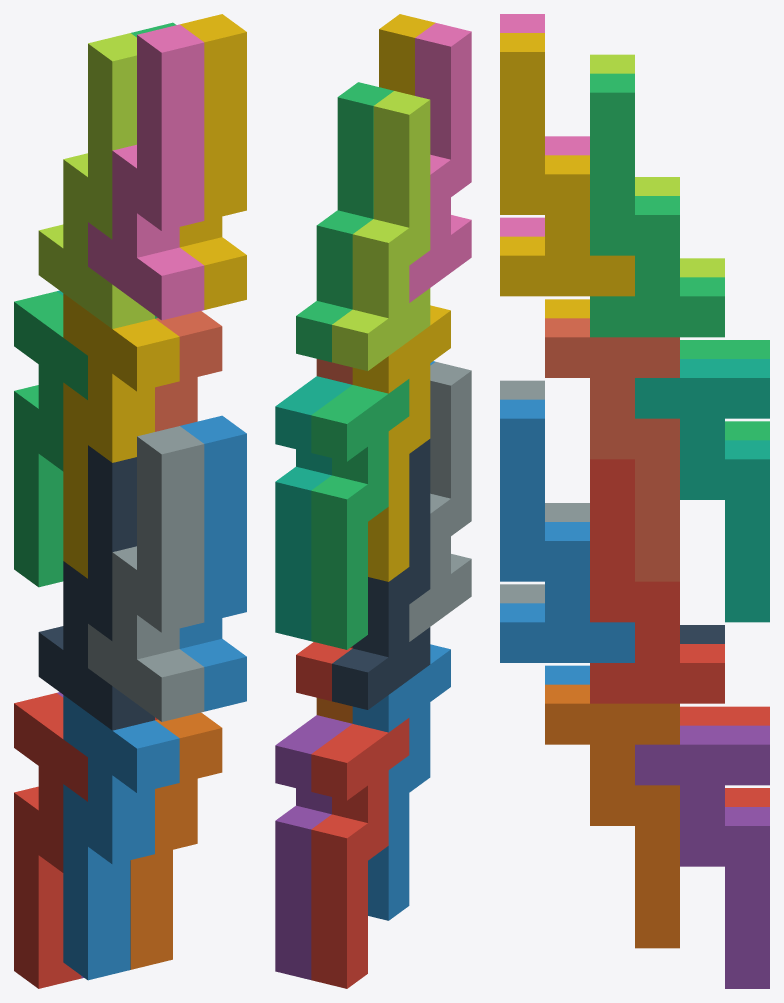
The model's file is tiling.obj.
3 views of the same model, side by side, from view 1: azimuth 30°, elevation 25°; view 2: azimuth 150°, elevation 25°; view 3: azimuth 270°, elevation 25° (orthographic). The views are drawn at different scales.
Parts seen in each view (by area): view 1: copy_2_domain_4, copy_2_domain_2, copy_1_domain_2, copy_1_domain_4, copy_1_domain_1, copy_2_domain_3, copy_1_domain_3, copy_2_domain_1, copy_2_domain_6, copy_2_domain_8, copy_1_domain_6, copy_1_domain_8; view 2: copy_2_domain_3, copy_1_domain_3, copy_1_domain_1, copy_2_domain_4, copy_2_domain_1, copy_2_domain_2, copy_2_domain_7, copy_1_domain_7, copy_1_domain_5, copy_1_domain_2, copy_1_domain_4, copy_2_domain_8 (+3 smaller); view 3: copy_2_domain_7, copy_1_domain_5, copy_2_domain_8, copy_1_domain_7, copy_2_domain_6, copy_1_domain_6, copy_1_domain_8, copy_2_domain_5, copy_1_domain_1, copy_2_domain_2, copy_2_domain_3, copy_2_domain_4 (+4 smaller).
Part boxes in pixels (left/top/right/bottom): copy_2_domain_4: left=88, top=24, right=204, bottom=320; copy_2_domain_2: left=88, top=426, right=204, bottom=721; copy_1_domain_2: left=63, top=695, right=179, bottom=980; copy_1_domain_4: left=63, top=293, right=179, bottom=578; copy_1_domain_1: left=14, top=693, right=87, bottom=988; copy_2_domain_3: left=38, top=33, right=154, bottom=328; copy_1_domain_3: left=14, top=291, right=87, bottom=587; copy_2_domain_1: left=38, top=445, right=154, bottom=730; copy_2_domain_6: left=179, top=415, right=246, bottom=711; copy_2_domain_8: left=179, top=14, right=246, bottom=309; copy_1_domain_6: left=130, top=712, right=222, bottom=969; copy_1_domain_8: left=155, top=311, right=222, bottom=431; copy_2_domain_3: left=332, top=91, right=430, bottom=370; copy_1_domain_3: left=311, top=379, right=409, bottom=649; copy_1_domain_1: left=311, top=718, right=409, bottom=988; copy_2_domain_4: left=409, top=23, right=471, bottom=302; copy_2_domain_1: left=332, top=439, right=430, bottom=709; copy_2_domain_2: left=409, top=362, right=471, bottom=641; copy_2_domain_7: left=296, top=82, right=393, bottom=362; copy_1_domain_7: left=275, top=376, right=351, bottom=640; copy_1_domain_5: left=275, top=715, right=352, bottom=979; copy_1_domain_2: left=352, top=644, right=450, bottom=920; copy_1_domain_4: left=352, top=305, right=450, bottom=581; copy_2_domain_8: left=379, top=14, right=435, bottom=95; copy_2_domain_7: left=590, top=73, right=724, bottom=337; copy_1_domain_5: left=635, top=725, right=769, bottom=988; copy_2_domain_8: left=500, top=33, right=634, bottom=296; copy_1_domain_7: left=635, top=359, right=769, bottom=622; copy_2_domain_6: left=500, top=399, right=634, bottom=662; copy_1_domain_6: left=545, top=684, right=679, bottom=948; copy_1_domain_8: left=545, top=318, right=679, bottom=581; copy_2_domain_5: left=590, top=459, right=724, bottom=703; copy_1_domain_1: left=680, top=706, right=769, bottom=806; copy_2_domain_2: left=500, top=380, right=589, bottom=603; copy_2_domain_3: left=590, top=54, right=724, bottom=277; copy_2_domain_4: left=500, top=14, right=589, bottom=236.
Bounding box in the file's own units: 2 × 23 × 6.
